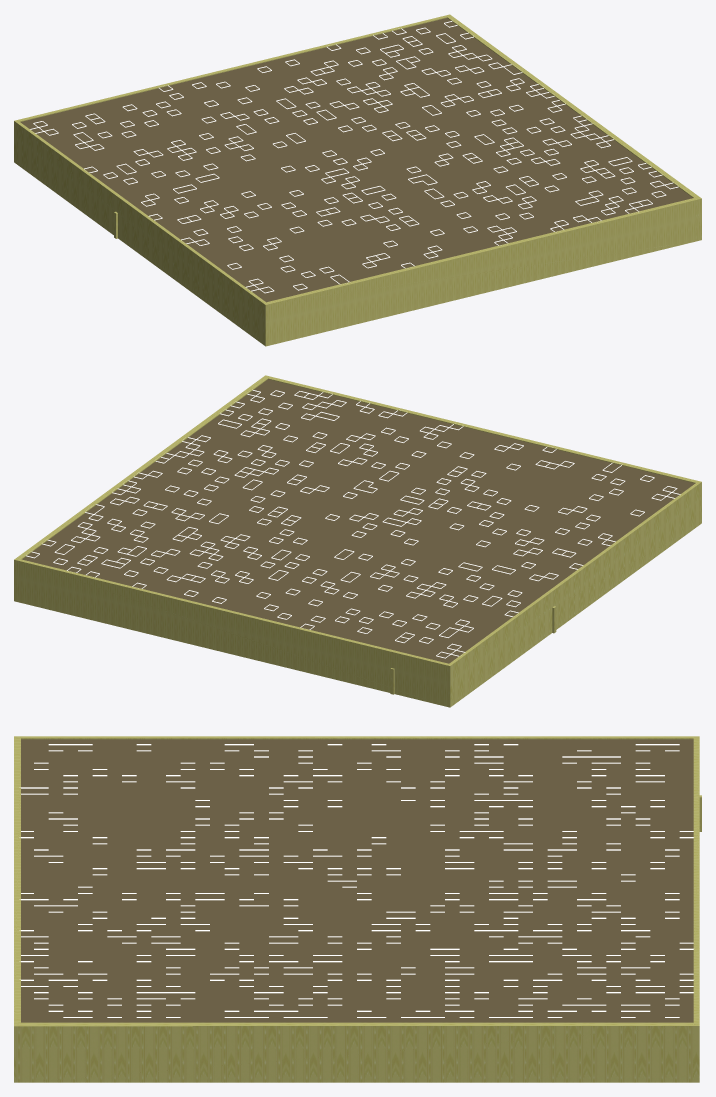
Rendered from maze map.glb.
The picture shows the model from 3 angles, top to bottom: view 1: azimuth 30°, elevation 25°; view 2: azimuth 150°, elevation 25°; view 3: azimuth 270°, elevation 25°; orthographic projection. The views are drawn at different scales.
Parts seen in each view (by area): view 1: ceiling, walls, light; view 2: ceiling, walls, light; view 3: ceiling, walls, light.
Boxes of the visible parts, x1,y1,x2,y2 form: ceiling: [20, 18, 692, 302]; walls: [14, 14, 701, 346]; light: [30, 20, 678, 293]; ceiling: [22, 379, 694, 663]; walls: [14, 375, 701, 707]; light: [26, 389, 680, 658]; ceiling: [21, 739, 693, 1022]; walls: [14, 736, 701, 1082]; light: [19, 744, 693, 1017].
Size of the model in its own units: 36.21 by 3.29 by 36.13.
Materials: 8 (7 with a texture image).
